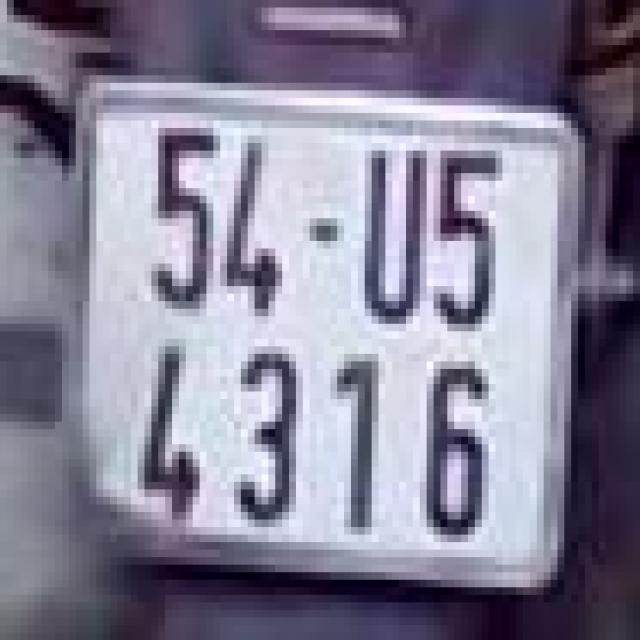1: (327, 346, 389, 542)
3: (227, 342, 303, 530)
4: (113, 331, 210, 542), (224, 124, 292, 320)
5: (141, 101, 217, 328), (433, 132, 502, 335)
6: (416, 354, 492, 557)
U: (355, 128, 430, 331)
